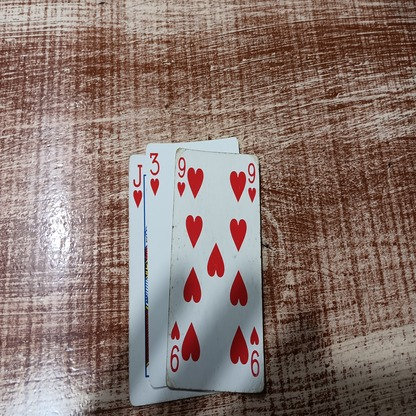3h: (149, 152, 163, 194)
9h: (247, 323, 262, 376), (168, 322, 180, 373), (178, 151, 186, 199), (246, 161, 255, 202)
Jh: (132, 161, 144, 209)
